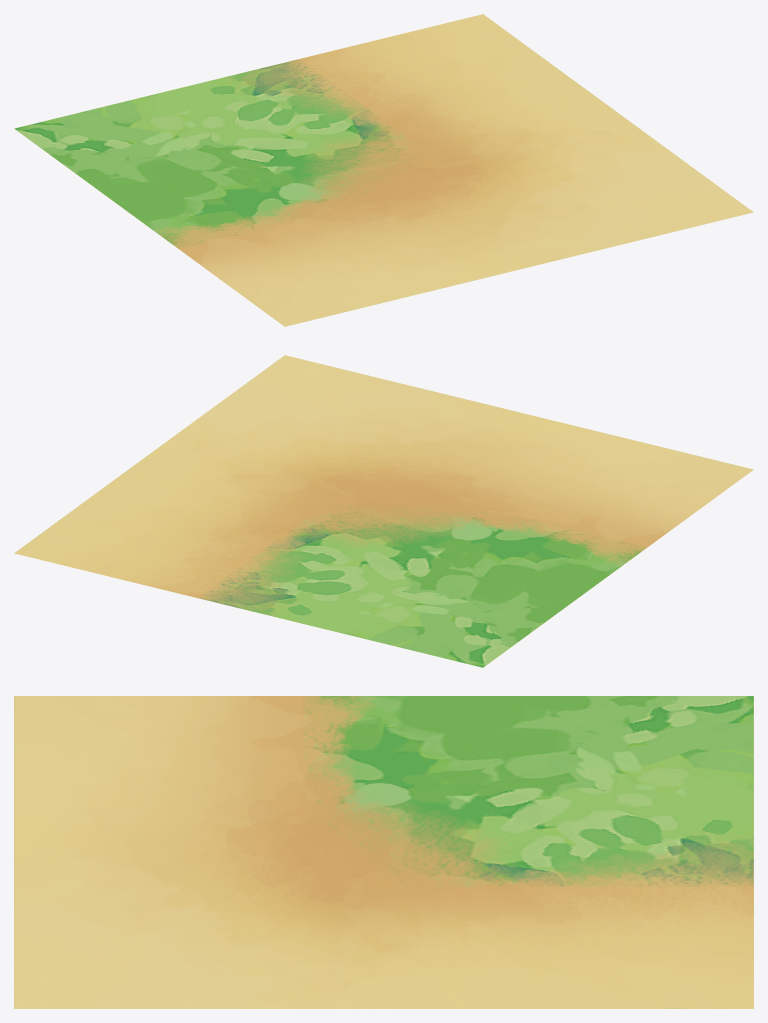
Rendered from env_tiles_mesh_10.fbx.
3 renders of one model, top to bottom at view 1: azimuth 30°, elevation 25°; view 2: azimuth 150°, elevation 25°; view 3: azimuth 270°, elevation 25°, orthographic. The views are drawn at different scales.
Parts seen in each view (by area): view 1: T10; view 2: T10; view 3: T10.
Boxes of the visible parts, left/top/right/bottom form: T10: left=14, top=14, right=753, bottom=326; T10: left=14, top=355, right=753, bottom=667; T10: left=14, top=696, right=753, bottom=1008.
Bounding box in the file's own units: 1000 × 0 × 1000.
